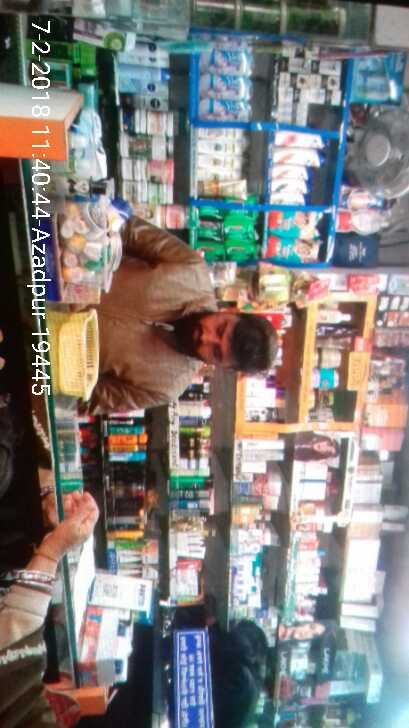venus: (196, 49, 250, 75), (201, 75, 249, 99), (201, 99, 250, 122)
